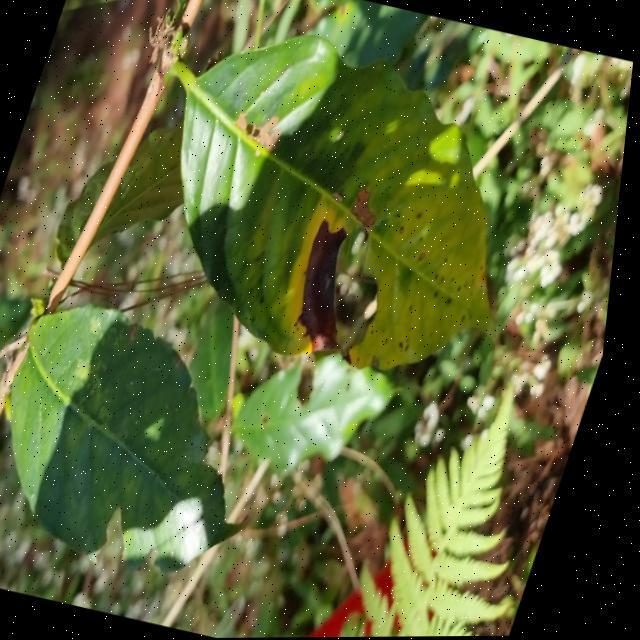leaves: (146, 0, 519, 410), (0, 287, 236, 593)
